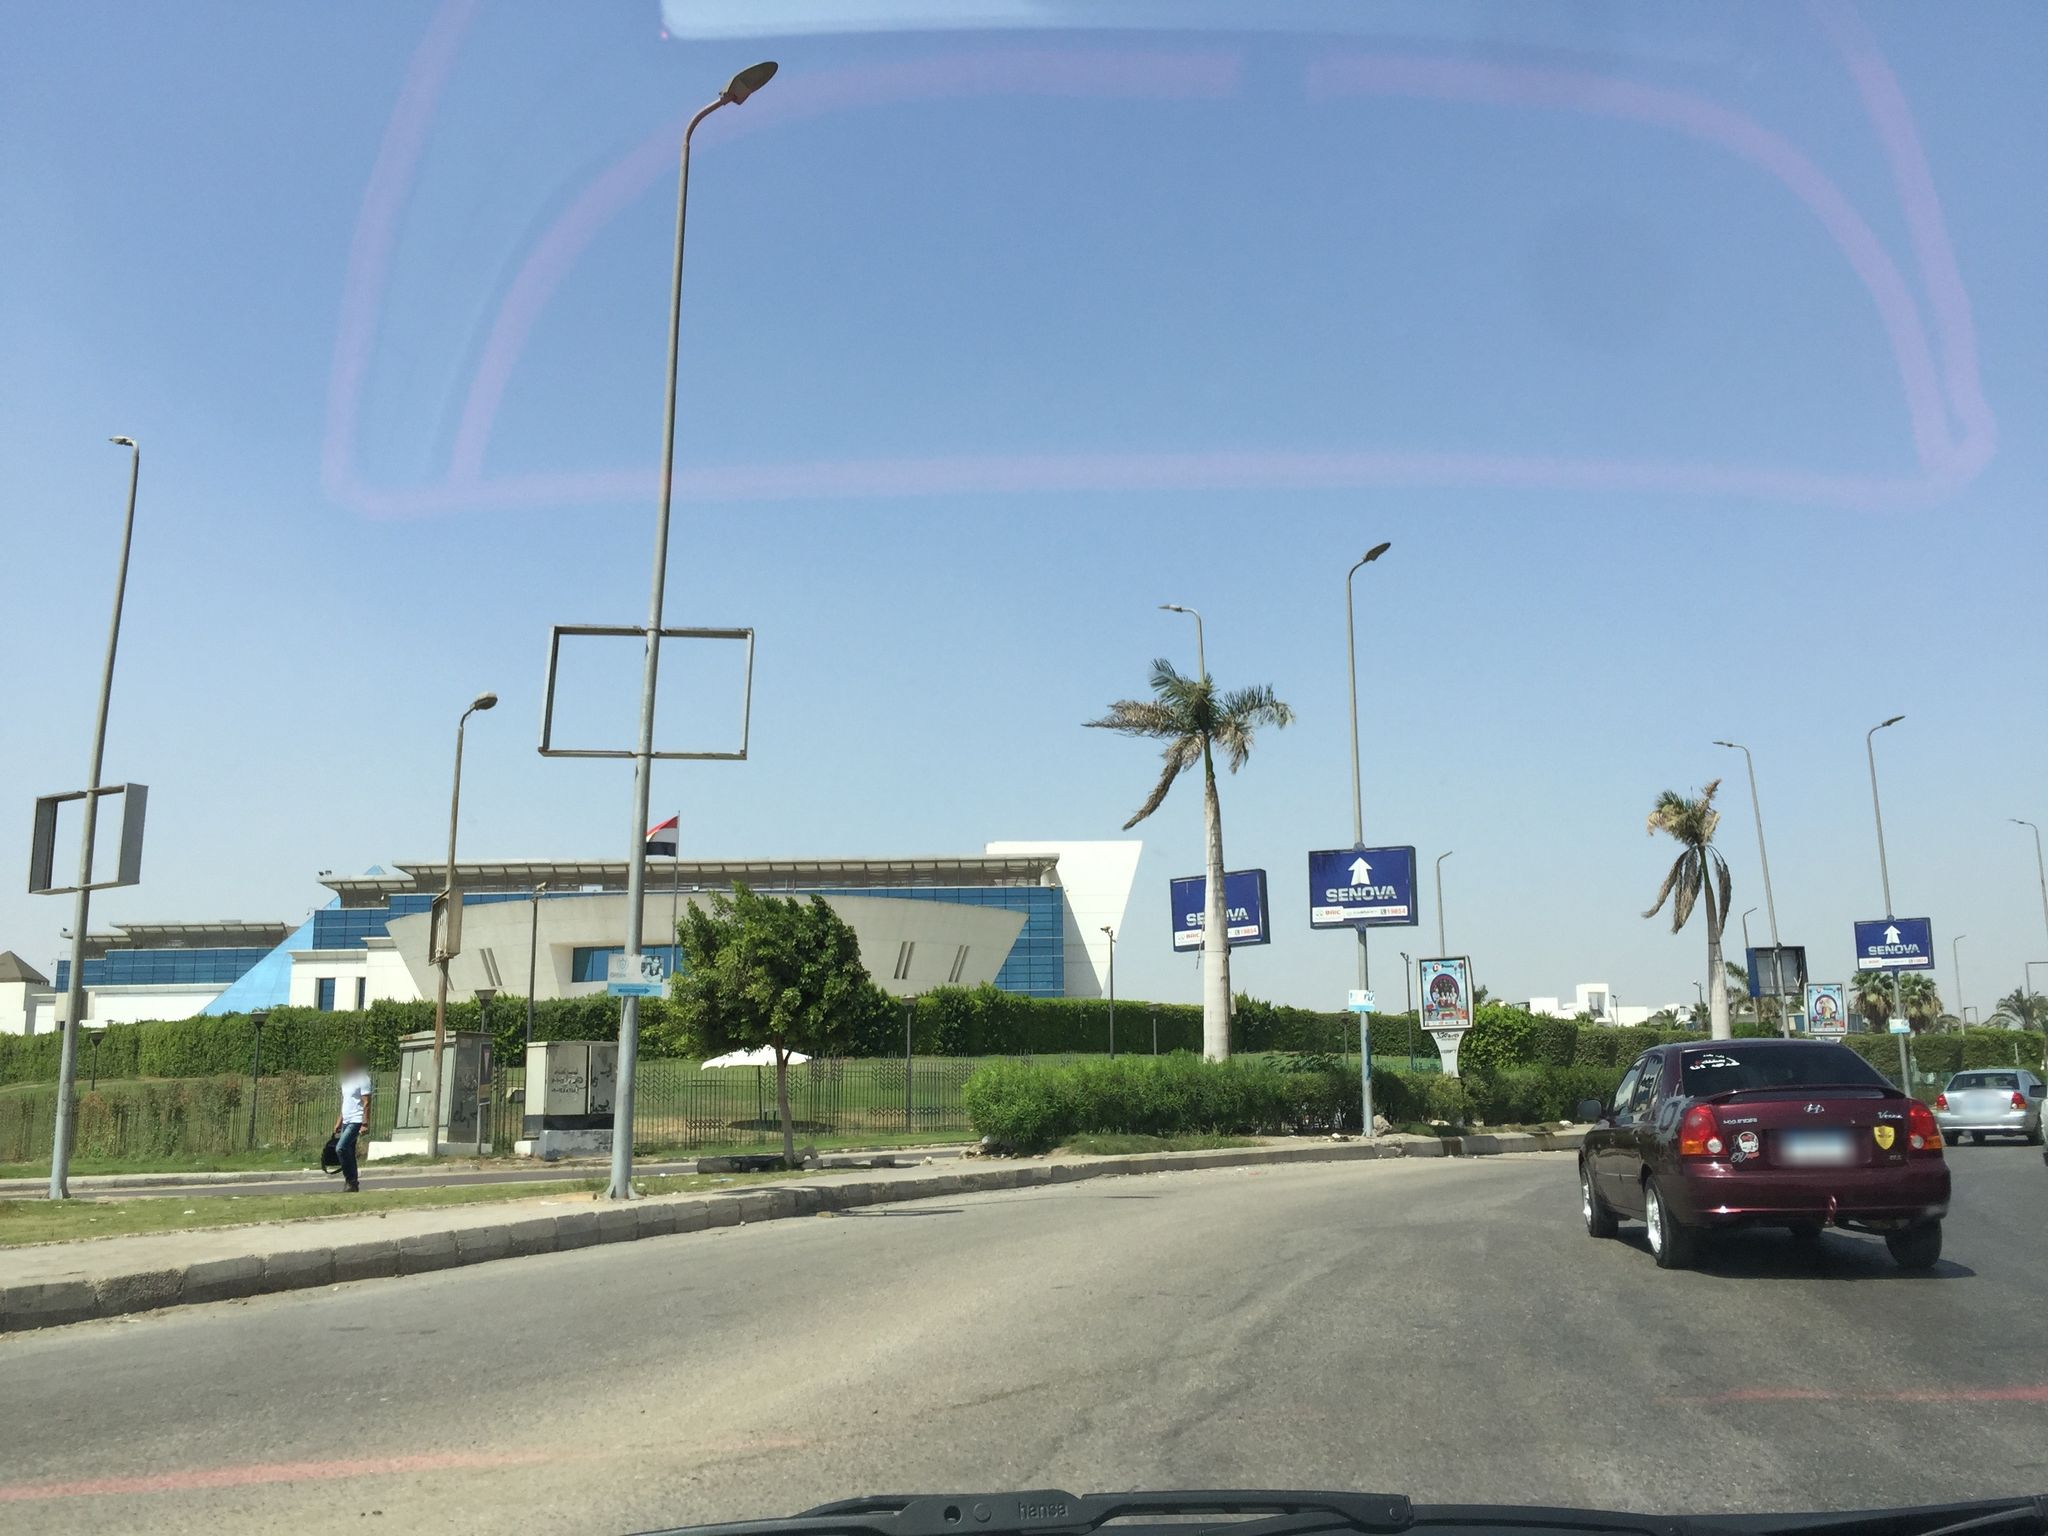car: (1579, 1037, 1953, 1273), (1937, 1066, 2046, 1146)
